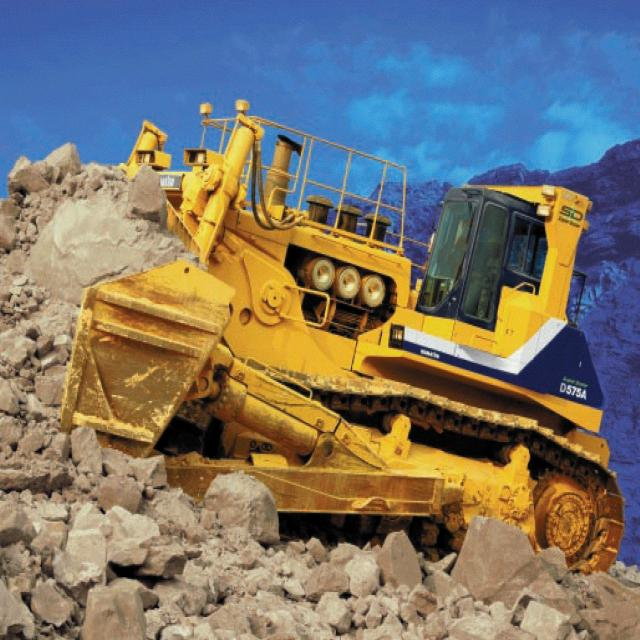Bulldozer: (46, 95, 634, 611)
